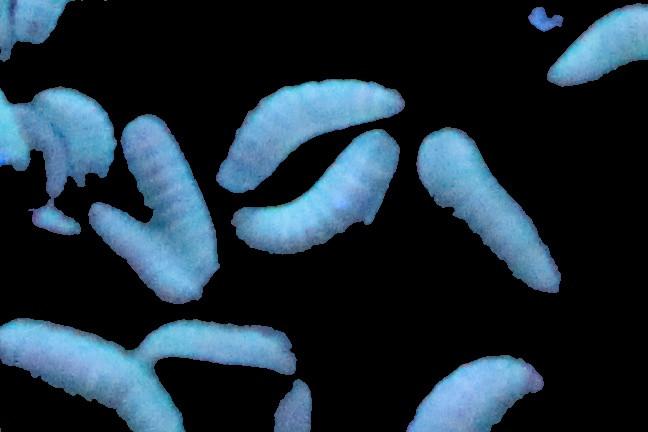larvae: (418, 130, 558, 296), (228, 130, 398, 263), (217, 79, 404, 193), (3, 316, 186, 432), (126, 117, 212, 272), (400, 353, 546, 432), (87, 202, 202, 302), (544, 3, 648, 85), (141, 315, 298, 369), (32, 82, 114, 181), (15, 99, 68, 197), (19, 1, 89, 35)
